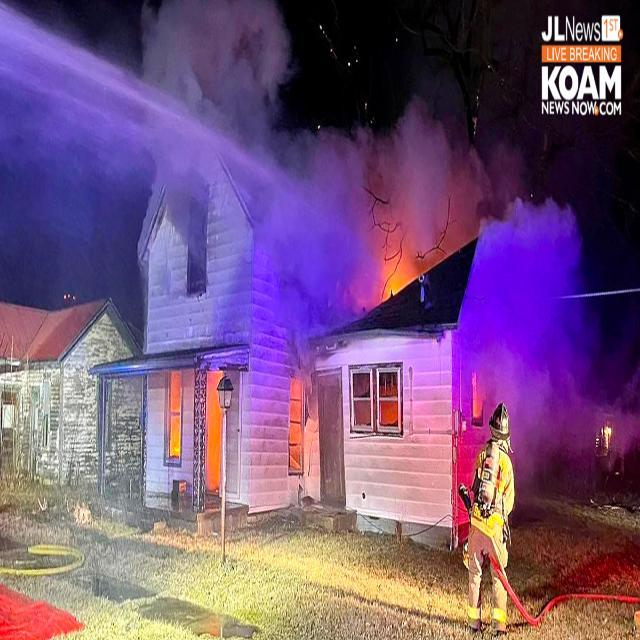Smoke: (161, 12, 458, 283), (451, 200, 586, 382)
